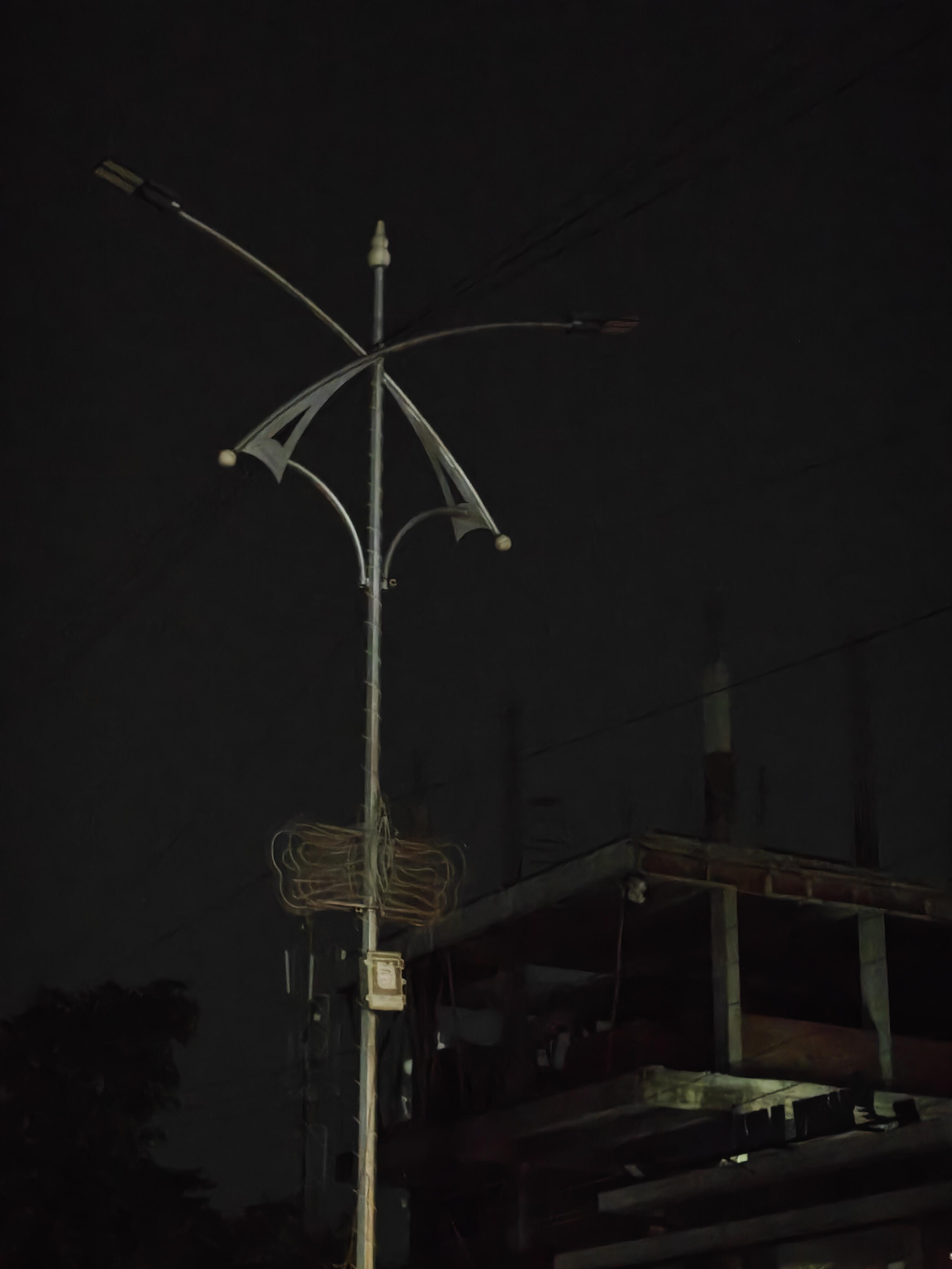streetlight: (90, 153, 362, 354), (460, 304, 642, 342)
